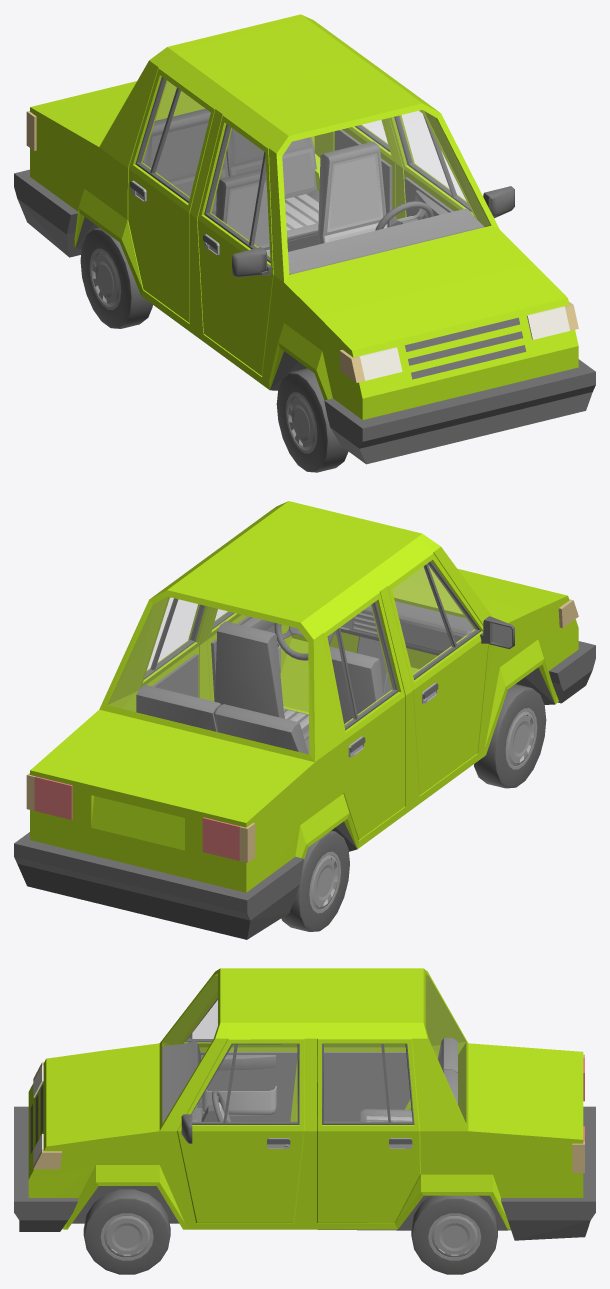
3 views of the same model, one above another, from view 1: azimuth 30°, elevation 25°; view 2: azimuth 150°, elevation 25°; view 3: azimuth 270°, elevation 25° (orthographic). The views are drawn at different scales.
Parts seen in each view (by area): view 1: Chassis_Chassis_0, Windows_Windows_0, Chassis_Bumpers_0, Interior_InteriorPanel_0, FR_Door_Chassis_0, RR_Door_Chassis_0, Interior_Handler_0, RR_Door_Windows_0, FR_Door_Windows_0, FR_Wheel_Tire_0, RR_Wheel_Tire_0, FR_Door_Bumpers_0 (+11 smaller); view 2: Chassis_Chassis_0, Windows_Windows_0, Chassis_Bumpers_0, Interior_InteriorPanel_0, FR_Door_Chassis_0, RR_Door_Chassis_0, FR_Door_Windows_0, RR_Door_Windows_0, FR_Wheel_Tire_0, RR_Wheel_Tire_0, Brake_Lights_Brake_lights_0, FR_Door_Bumpers_0 (+11 smaller); view 3: Chassis_Chassis_0, FL_Door_Chassis_0, RL_Door_Chassis_0, Chassis_Bumpers_0, Windows_Windows_0, FL_Door_Windows_0, RL_Door_Windows_0, RR_Door_InteriorPanel_0, FL_Wheel_Tire_0, RL_Wheel_Tire_0, FR_Door_InteriorPanel_0, Interior_InteriorPanel_0 (+9 smaller).
Part boxes in pixels (x1,y1,x2,y2): Chassis_Chassis_0: (30, 14, 578, 419); Windows_Windows_0: (156, 82, 489, 273); Chassis_Bumpers_0: (14, 169, 595, 464); Interior_InteriorPanel_0: (142, 108, 484, 274); FR_Door_Chassis_0: (197, 115, 273, 375); RR_Door_Chassis_0: (128, 68, 215, 322); Interior_Handler_0: (226, 153, 386, 255); RR_Door_Windows_0: (139, 80, 209, 198); FR_Door_Windows_0: (208, 127, 269, 258); FR_Wheel_Tire_0: (276, 368, 348, 472); RR_Wheel_Tire_0: (80, 227, 152, 328); FR_Door_Bumpers_0: (203, 124, 271, 277); Chassis_Chassis_0: (30, 501, 578, 892); Windows_Windows_0: (108, 568, 461, 753); Chassis_Bumpers_0: (14, 641, 595, 939); Interior_InteriorPanel_0: (136, 601, 473, 754); FR_Door_Chassis_0: (387, 553, 488, 795); RR_Door_Chassis_0: (323, 592, 405, 839); FR_Door_Windows_0: (392, 563, 477, 675); RR_Door_Windows_0: (328, 604, 395, 726); FR_Wheel_Tire_0: (474, 684, 546, 788); RR_Wheel_Tire_0: (281, 830, 349, 931); Brake_Lights_Brake_lights_0: (34, 776, 239, 860); FR_Door_Bumpers_0: (413, 561, 514, 701); Chassis_Chassis_0: (28, 968, 583, 1229); FL_Door_Chassis_0: (177, 1038, 304, 1223); RL_Door_Chassis_0: (317, 1038, 420, 1223); Chassis_Bumpers_0: (14, 1085, 595, 1240); Windows_Windows_0: (164, 974, 465, 1120); FL_Door_Windows_0: (192, 1044, 297, 1122); RL_Door_Windows_0: (324, 1044, 411, 1121); RR_Door_InteriorPanel_0: (324, 1052, 410, 1121); FL_Wheel_Tire_0: (83, 1189, 170, 1274); RL_Wheel_Tire_0: (411, 1195, 497, 1274); FR_Door_InteriorPanel_0: (200, 1052, 297, 1121); Interior_InteriorPanel_0: (162, 1038, 457, 1123).
Size of the model in its own units: 5.2 by 4.99 by 11.18.
